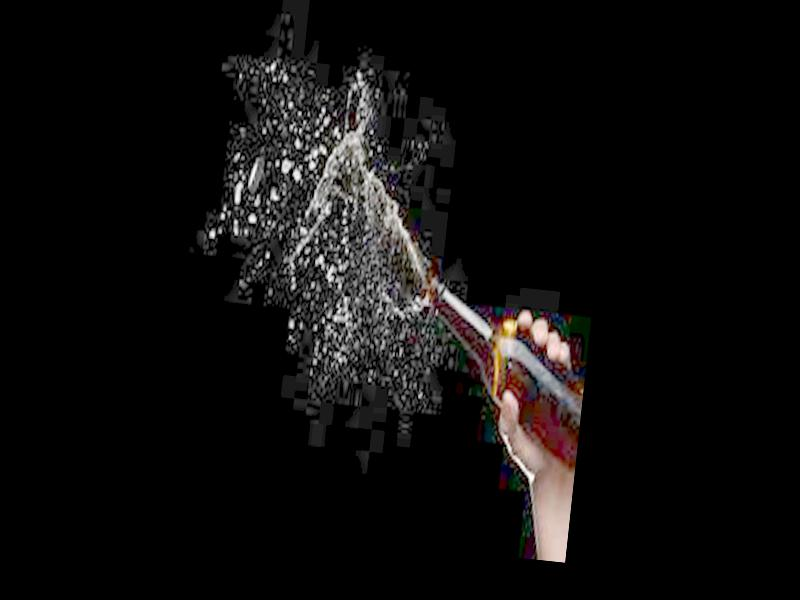Beer: (410, 272, 592, 476)
